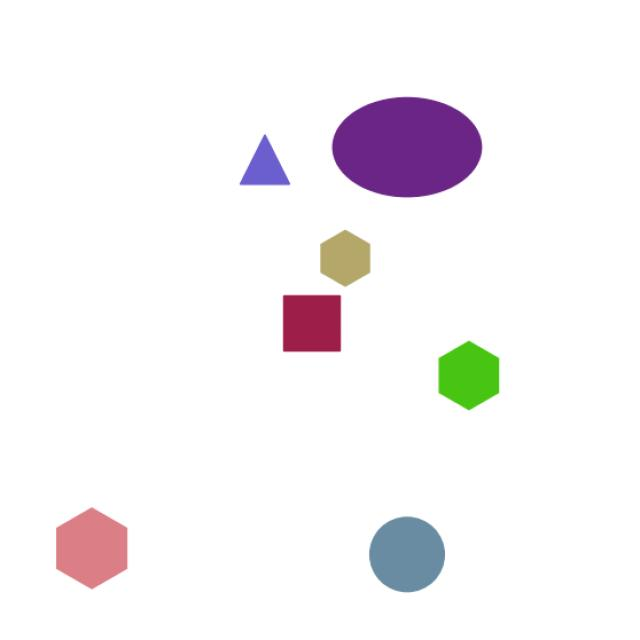Circle: (363, 508, 453, 603)
Hexagon: (20, 502, 152, 596), (410, 326, 518, 415), (305, 220, 383, 312)
Oval: (317, 90, 502, 203)
Triangle: (231, 120, 314, 212)
square: (267, 279, 354, 365)
